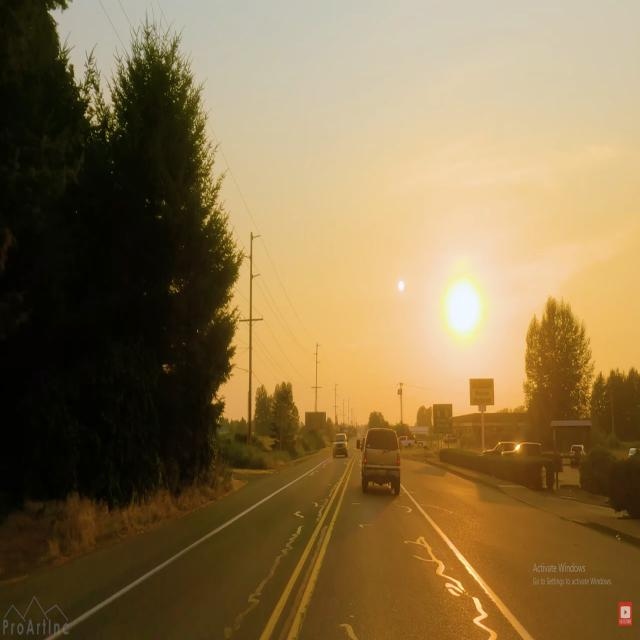sun: (438, 270, 489, 352)
